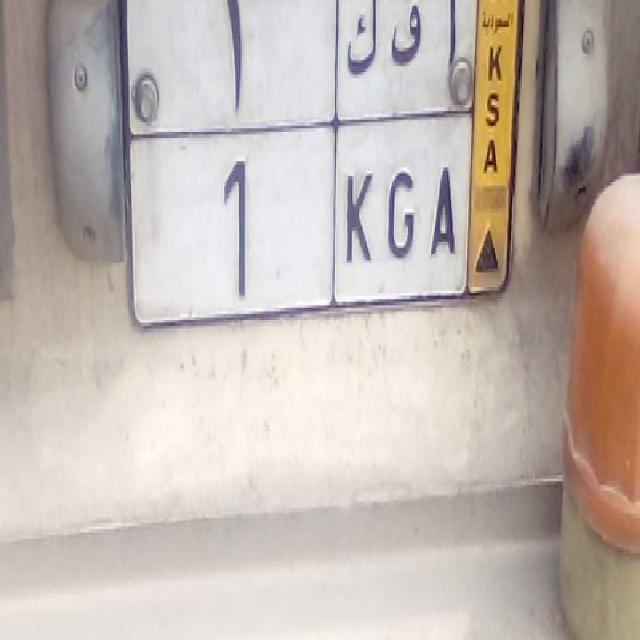license_plate: (132, 120, 473, 314)
